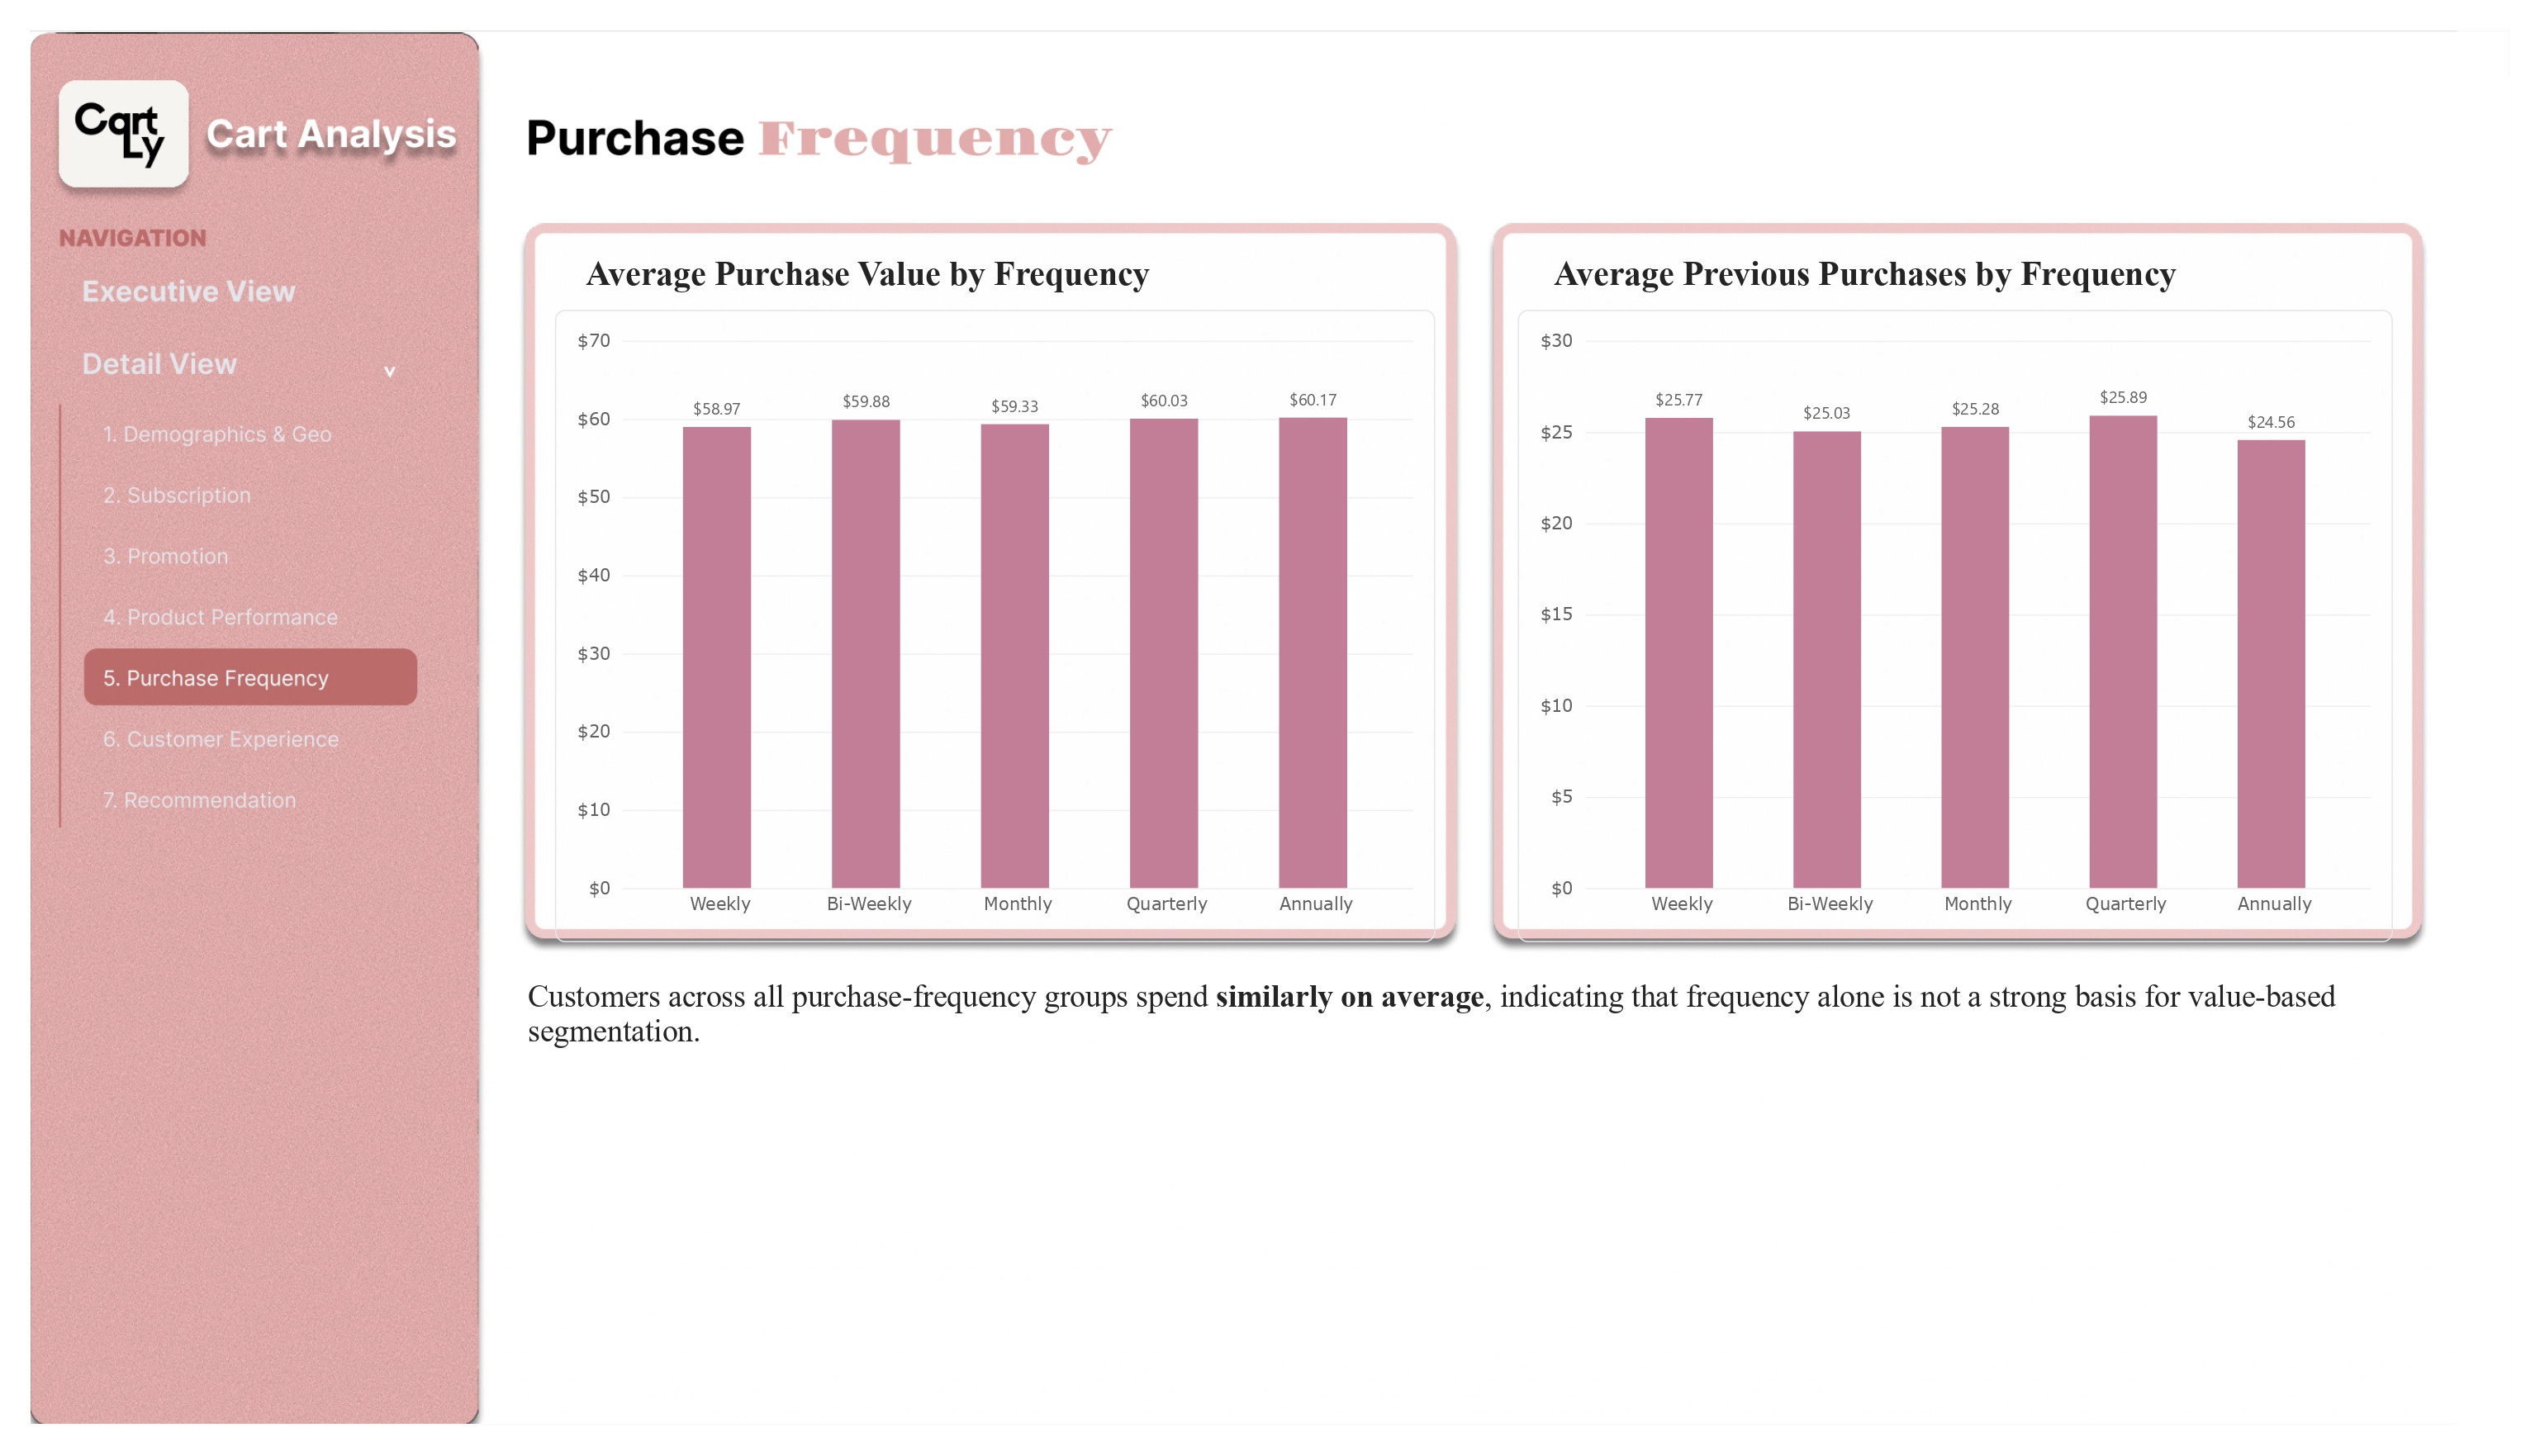

This screenshot's page, from the dashboard's own definition file:
{"tool":"powerbi","page":{"name":"Purchases Page","canvas":[1920,1080],"ordinal":5},"visuals":[{"type":"image","box":[0,0,1890,1080],"z":0},{"type":"actionButton","box":[21.8,172.9,280.9,52.7],"z":0,"group":"g1"},{"type":"columnChart","fields":{"Category":["Customer_Shopping_Behavior_Clean_Update2.frequency_standardized"],"Y":["Avg(Customer_Shopping_Behavior_Clean_Update2.purchase_amount_usd)"]},"box":[406,216,682,490],"z":1000},{"type":"actionButton","box":[21.9,231.2,281,52],"z":1000,"group":"g1"},{"type":"columnChart","fields":{"Category":["Customer_Shopping_Behavior_Clean_Update2.frequency_standardized"],"Y":["Avg(Customer_Shopping_Behavior_Clean_Update2.previous_purchases)"]},"box":[1152,216,678,490],"z":2000},{"type":"actionButton","box":[40.9,287.7,260.5,46],"z":2000,"group":"g1"},{"type":"textbox","box":[430,173,444,42],"z":3000},{"type":"actionButton","box":[40.9,334.6,260.4,46.1],"z":3000,"group":"g1"},{"type":"textbox","box":[1180,173,490,42],"z":4000},{"type":"actionButton","box":[40.9,383.1,260,46.1],"z":4000,"group":"g1"},{"type":"actionButton","box":[40.9,432.8,260,46],"z":5000,"group":"g1"},{"type":"textbox","box":[385,735,1478,300],"z":5000},{"type":"group","id":"g1","title":"Side Bar","box":[21.8,172.9,280.6,445.3],"z":6000},{"type":"actionButton","box":[40.9,480.4,260,46],"z":6000,"group":"g1"},{"type":"shape","box":[1880,0,40,1080],"z":6001},{"type":"actionButton","box":[40.9,526.4,260,46],"z":7000,"group":"g1"},{"type":"actionButton","box":[40.9,572.5,260,46],"z":8000,"group":"g1"}]}

Visuals, with their boxes on the page's 1920x1080 design canvas (x1, y1, x2, y2). These are canvas units, not pixel positions in the 2540x1456 screenshot, which may show the page scaled, cropped or inside an application window:
image: [x1=0, y1=0, x2=1890, y2=1080]
actionButton: [x1=22, y1=173, x2=303, y2=226]
columnChart - Customer_Shopping_Behavior_Clean_Update2.frequency_standardized x Avg(Customer_Shopping_Behavior_Clean_Update2.purchase_amount_usd): [x1=406, y1=216, x2=1088, y2=706]
actionButton: [x1=22, y1=231, x2=303, y2=283]
columnChart - Customer_Shopping_Behavior_Clean_Update2.frequency_standardized x Avg(Customer_Shopping_Behavior_Clean_Update2.previous_purchases): [x1=1152, y1=216, x2=1830, y2=706]
actionButton: [x1=41, y1=288, x2=301, y2=334]
textbox: [x1=430, y1=173, x2=874, y2=215]
actionButton: [x1=41, y1=335, x2=301, y2=381]
textbox: [x1=1180, y1=173, x2=1670, y2=215]
actionButton: [x1=41, y1=383, x2=301, y2=429]
actionButton: [x1=41, y1=433, x2=301, y2=479]
textbox: [x1=385, y1=735, x2=1863, y2=1035]
"Side Bar" group: [x1=22, y1=173, x2=302, y2=618]
actionButton: [x1=41, y1=480, x2=301, y2=526]
shape: [x1=1880, y1=0, x2=1920, y2=1080]
actionButton: [x1=41, y1=526, x2=301, y2=572]
actionButton: [x1=41, y1=572, x2=301, y2=618]
